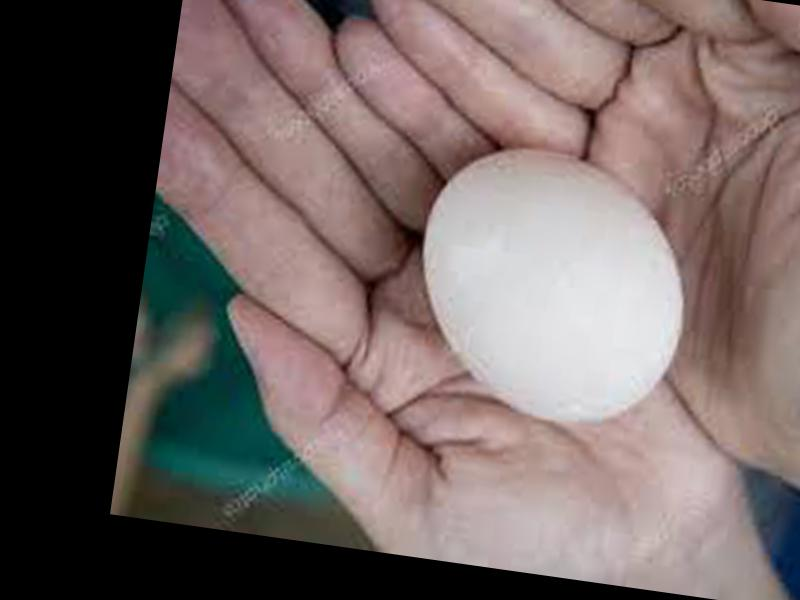Eggs: (402, 142, 700, 429)
